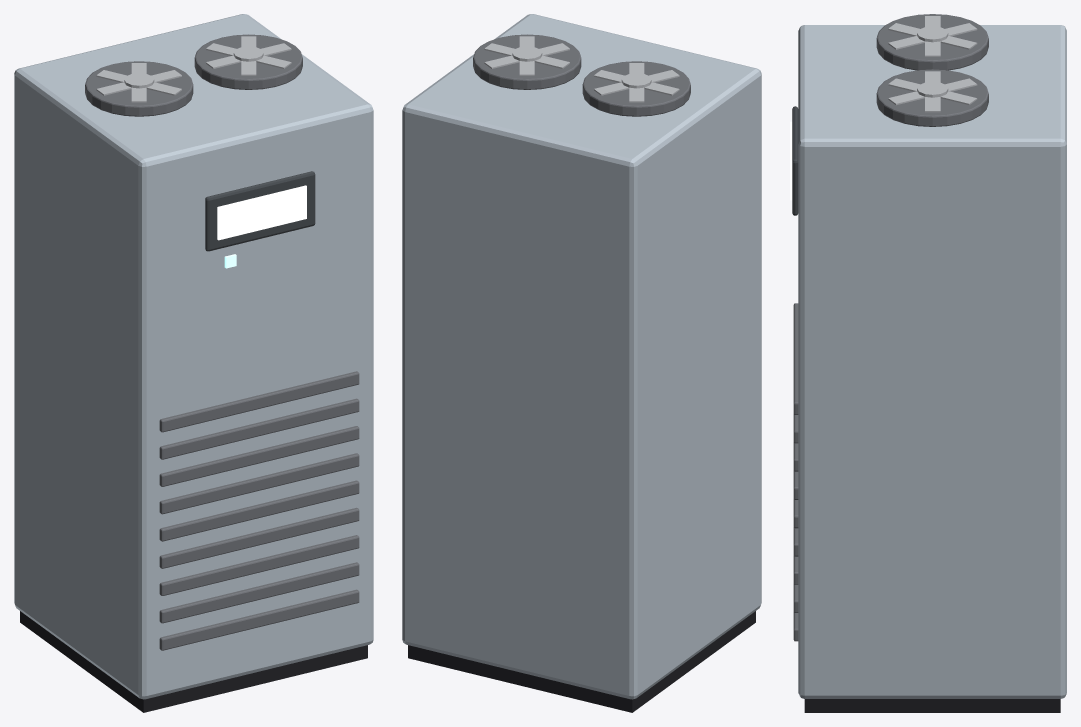
Rendered from inrow.fbx.
The picture shows the model from 3 angles, left to right: view 1: azimuth 30°, elevation 25°; view 2: azimuth 150°, elevation 25°; view 3: azimuth 270°, elevation 25°; orthographic projection. The views are drawn at different scales.
Parts seen in each view (by area): view 1: inrow; view 2: inrow; view 3: inrow.
Part boxes in pixels (x1=…): inrow: x1=14, y1=14, x2=373, y2=712; inrow: x1=402, y1=14, x2=761, y2=712; inrow: x1=790, y1=14, x2=1066, y2=712.
Bounding box in the file's own units: 0.9 × 2.11 × 0.887.
